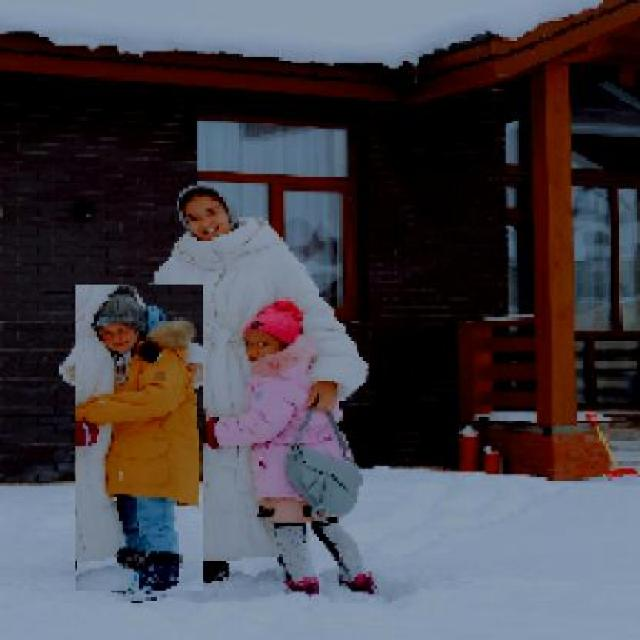child: (176, 298, 382, 596), (74, 285, 203, 592)
